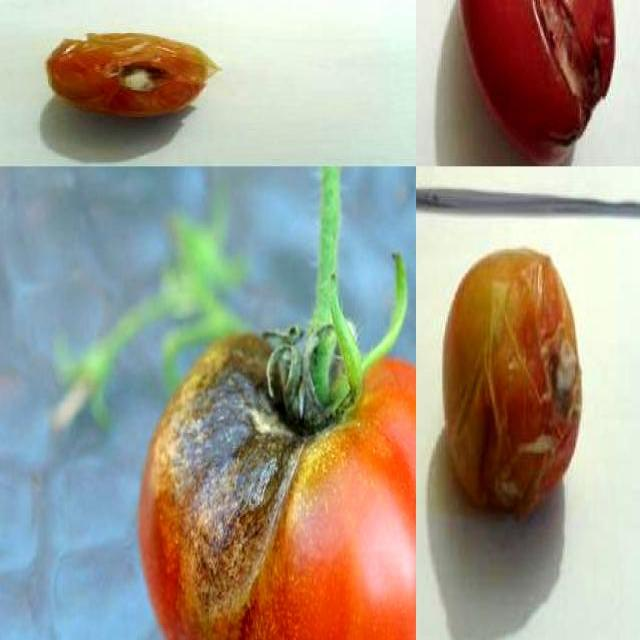Rotten_Tomato: (140, 274, 416, 640), (439, 243, 588, 529), (454, 0, 623, 166), (42, 32, 219, 122)
